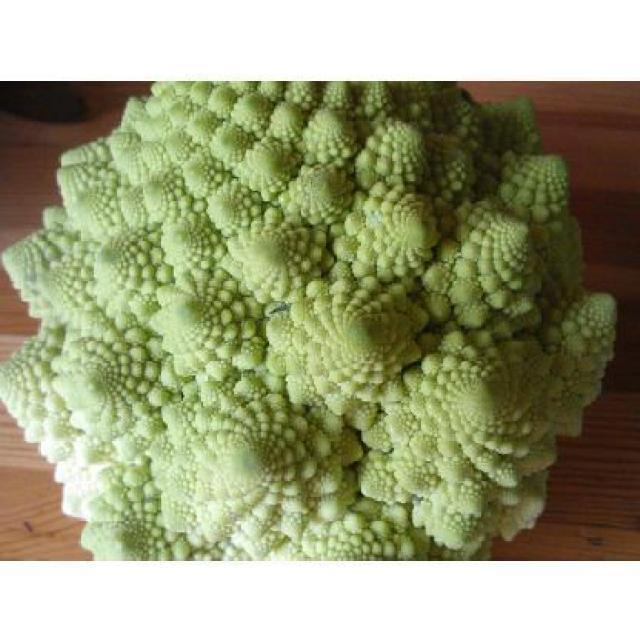Broccoli: (0, 79, 617, 558)
